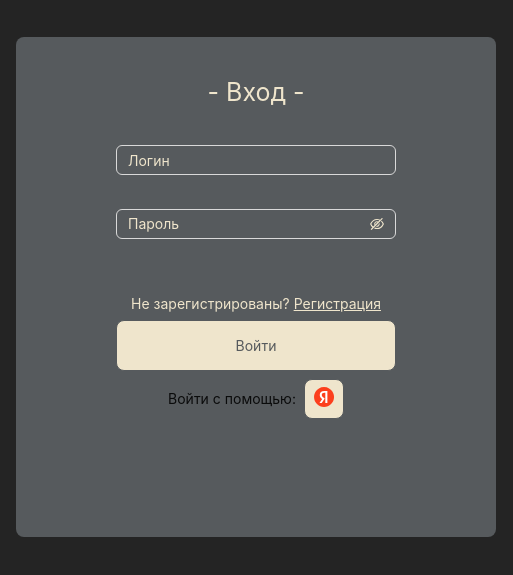
Scenario: Тестируем страницу LoginPage. › проверяем валидацию ввода пароля
The image size is (513, 575).
Type "testuser" into the field with placeholder "Логин" at (256, 160), box [116,145,396,175]
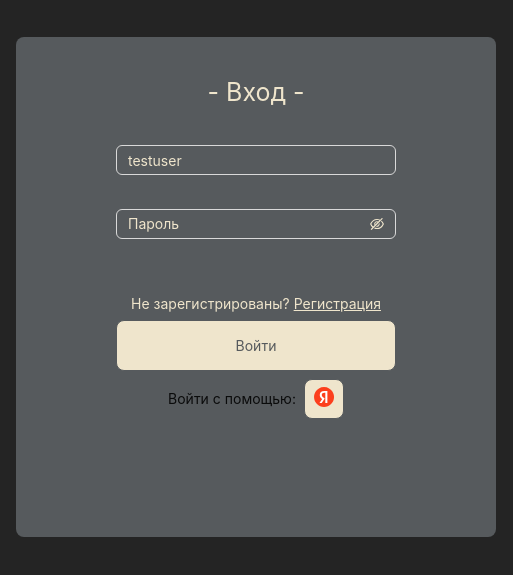
Type "testpassword" into the password field with placeholder "Пароль" at (247, 224), box [128,214,366,234]
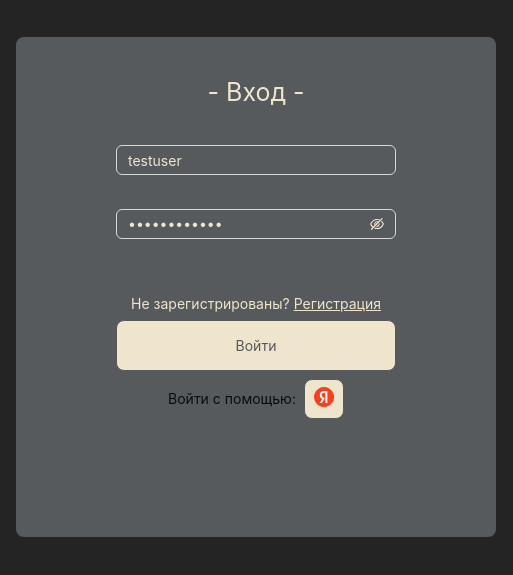
Click the button "Войти" at (256, 346), box [116,320,396,371]
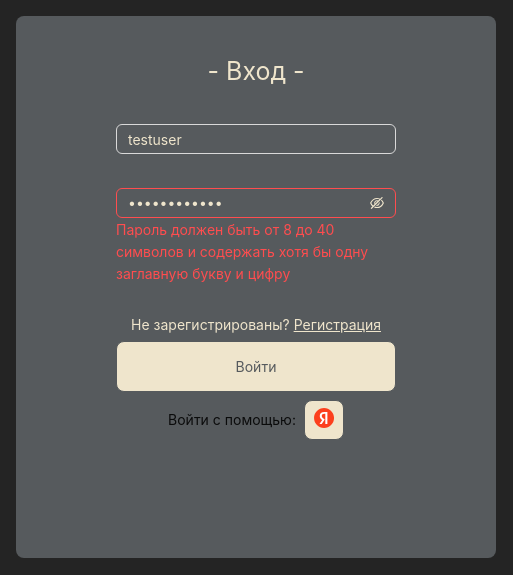
Expected: the text "Пароль должен быть от 8 до 40 символов и содержать хотя бы одну заглавную букву и цифру" is shown, [116,221,368,282]
